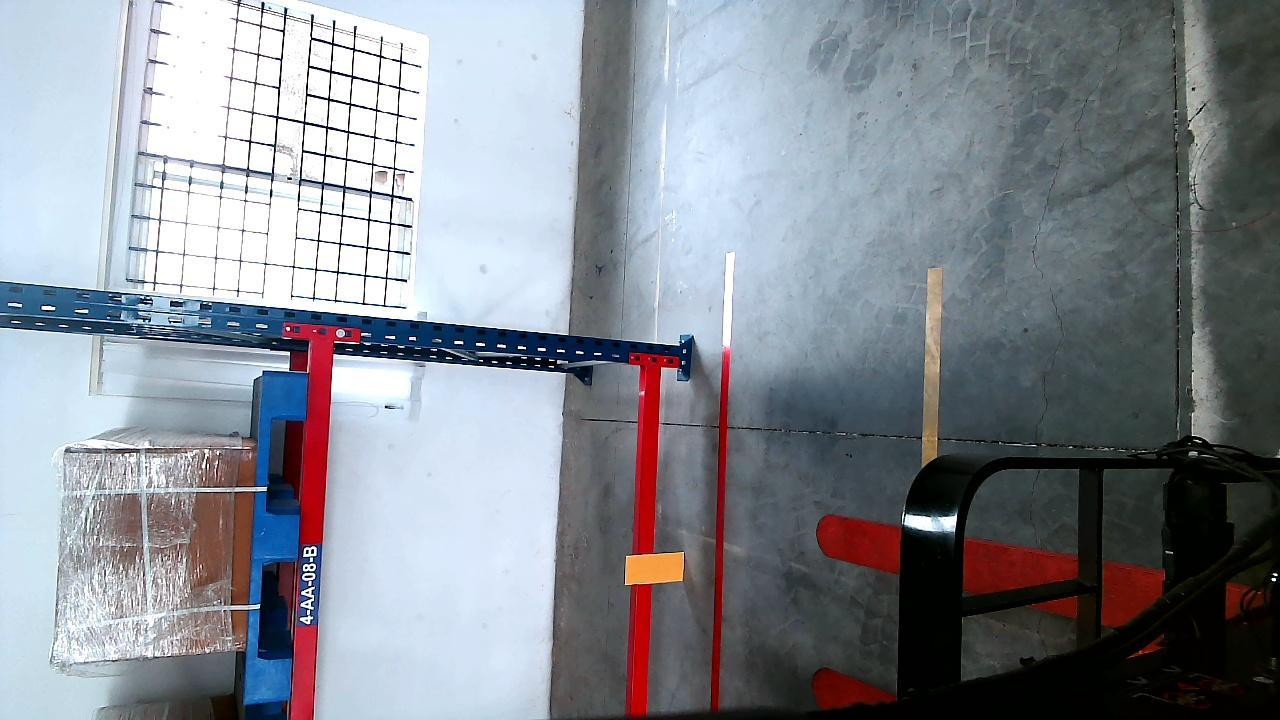red_line: (704, 253, 733, 715)
yellow_line: (922, 265, 941, 465)
